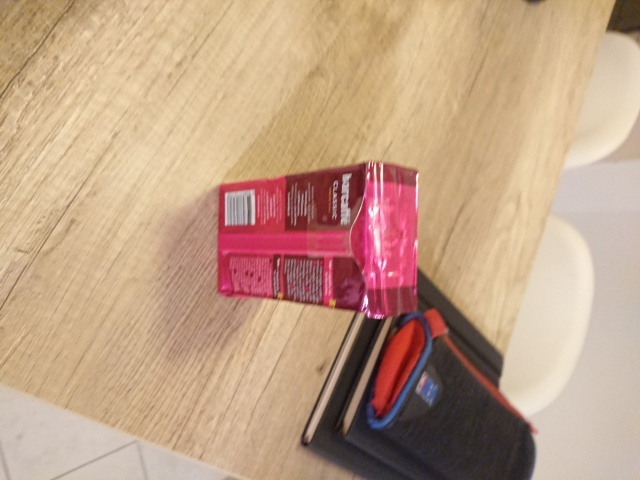Barcaffe Classic Original 225g: (215, 157, 421, 321)
